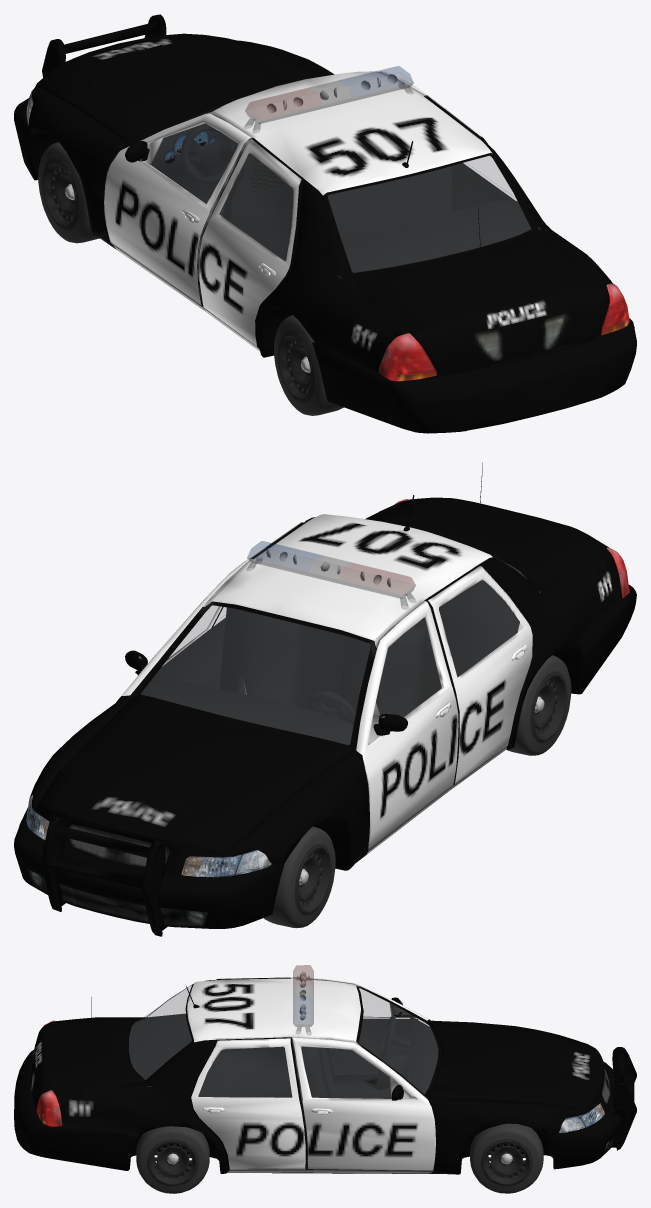
The model's file is police_car_lod1.04a6d826e0.glb.
The picture shows the model from 3 angles, top to bottom: view 1: azimuth 30°, elevation 25°; view 2: azimuth 150°, elevation 25°; view 3: azimuth 270°, elevation 25°; orthographic projection. The views are drawn at different scales.
Parts seen in each view (by area): view 1: body (×3), glass, wheel_rl, wheel_fl; view 2: body (×3), glass, wheel_fl, wheel_rl; view 3: body (×3), glass, wheel_fr, wheel_rr.
Part boxes in pixels (x1,y1,x2,y2): body (×3): (14, 14, 636, 433); glass: (151, 104, 530, 272); wheel_rl: (274, 315, 343, 415); wheel_fl: (38, 142, 99, 243); body (×3): (14, 462, 636, 936); glass: (141, 557, 525, 744); wheel_fl: (264, 826, 335, 928); wheel_rl: (507, 655, 571, 755); body (×3): (14, 965, 636, 1174); glass: (129, 985, 438, 1098); wheel_fr: (470, 1123, 543, 1193); wheel_rr: (136, 1126, 209, 1193).
Size of the model in its own units: 1.99 by 1.6 by 5.4.
Materials: 6 (4 with a texture image).
